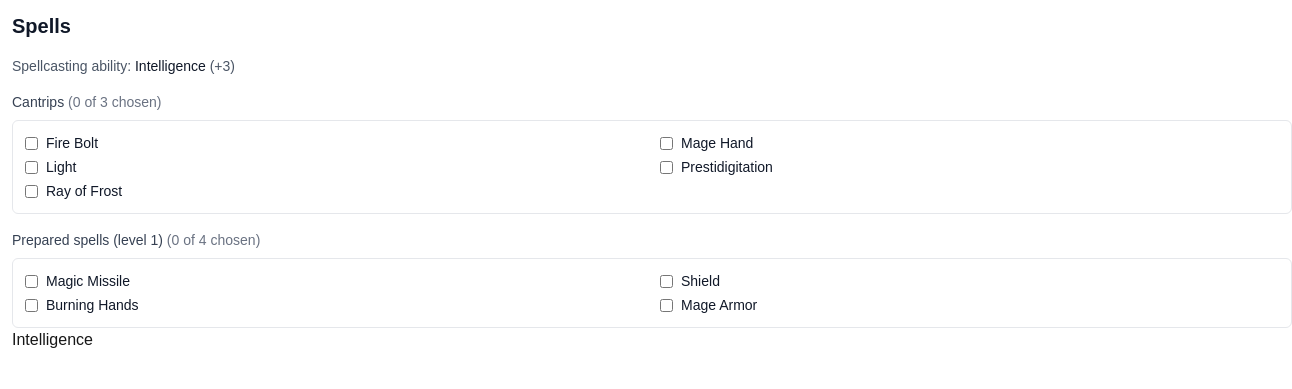
Test: SpellsStep — spell selection › enforces the cantrip cap
3 cantrips allowed — pick three.
Click the checkbox labelled "Fire Bolt": (32, 143) [25, 136, 38, 150]
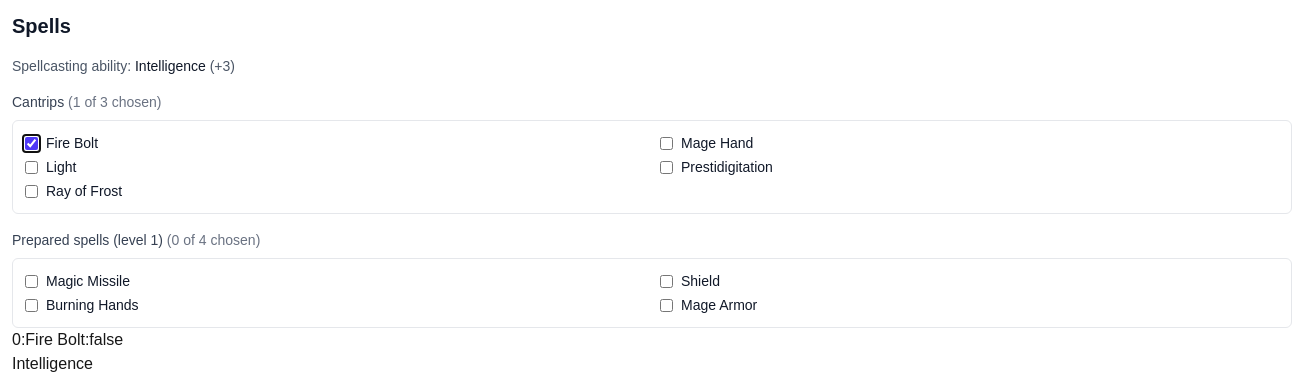
Click the checkbox labelled "Mage Hand": (666, 143) [660, 136, 673, 150]
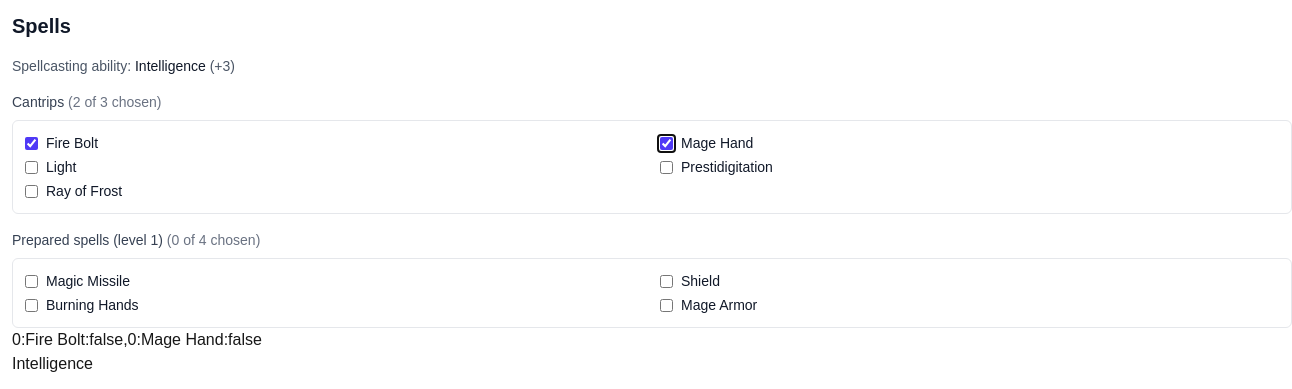
Click the checkbox labelled "Light": (32, 167) [25, 160, 38, 174]
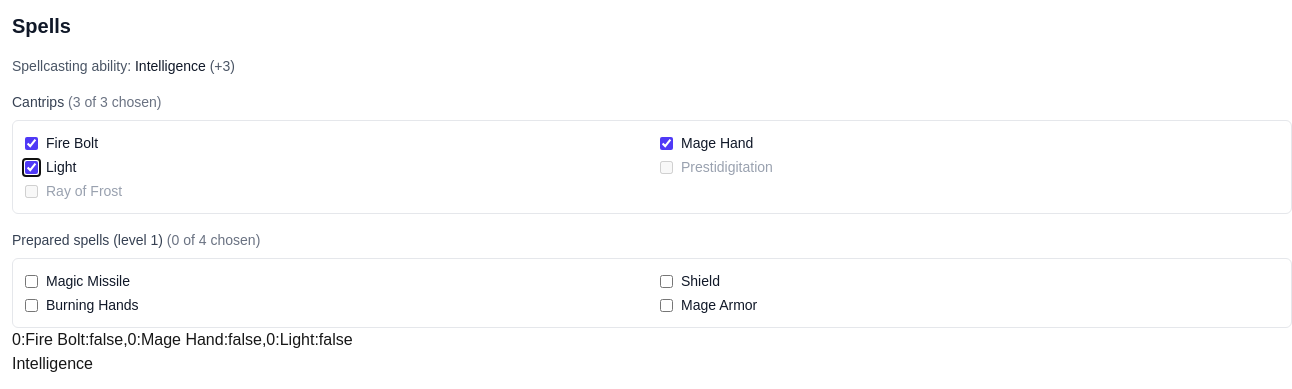
expect the checkbox labelled "Prestidigitation" is disabled: met
Click the checkbox labelled "Prestidigitation": (666, 167) [660, 160, 673, 174]
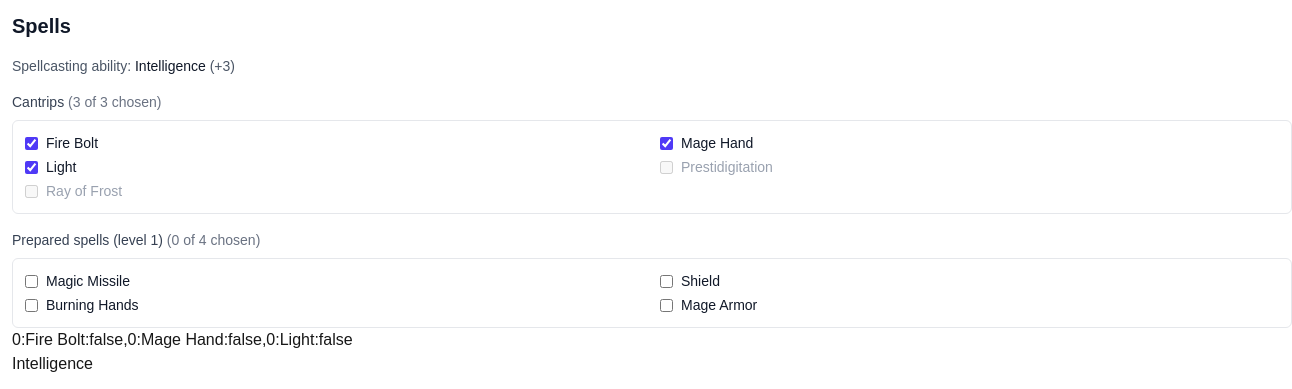
Unchecking one frees a slot again.
Click the checkbox labelled "Fire Bolt": (32, 143) [25, 136, 38, 150]
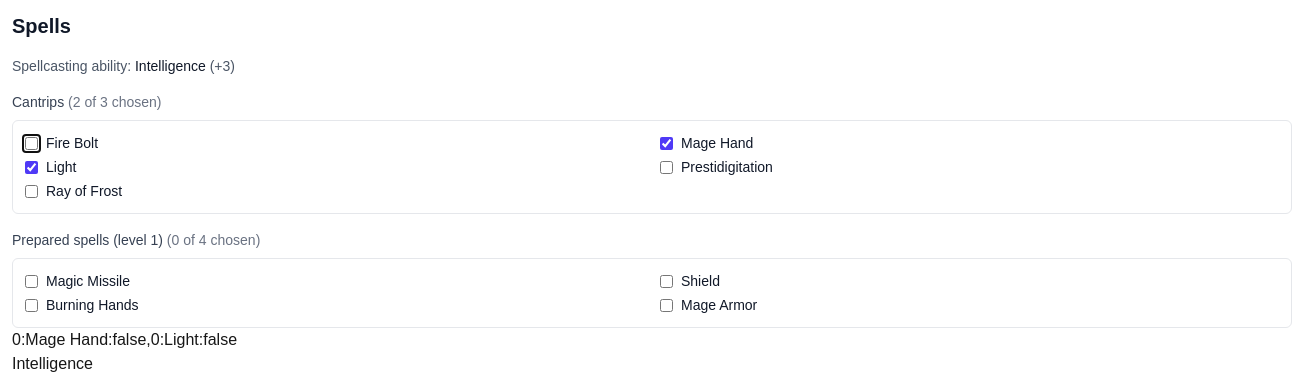
expect the checkbox labelled "Prestidigitation" is enabled: met, box [660, 160, 673, 174]
